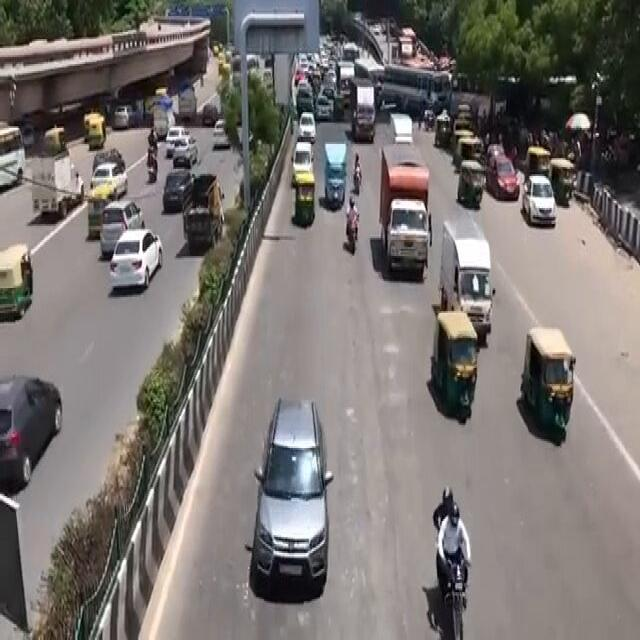three_wheeler: (516, 316, 582, 450)
